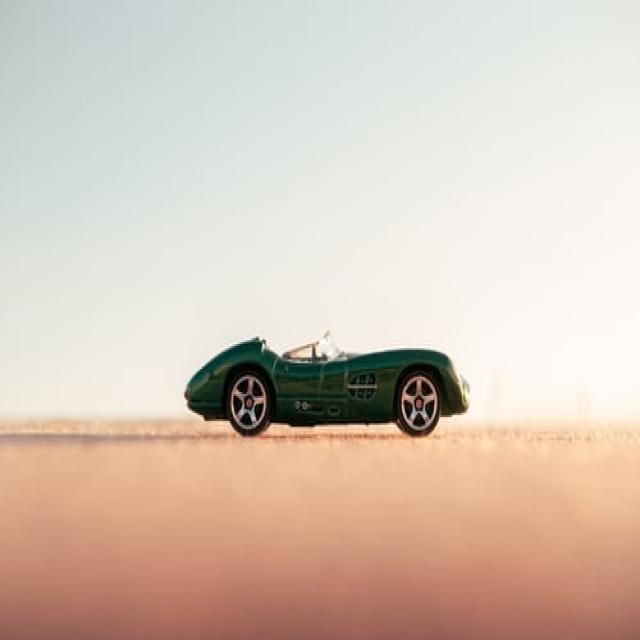Car: (183, 329, 470, 436)
